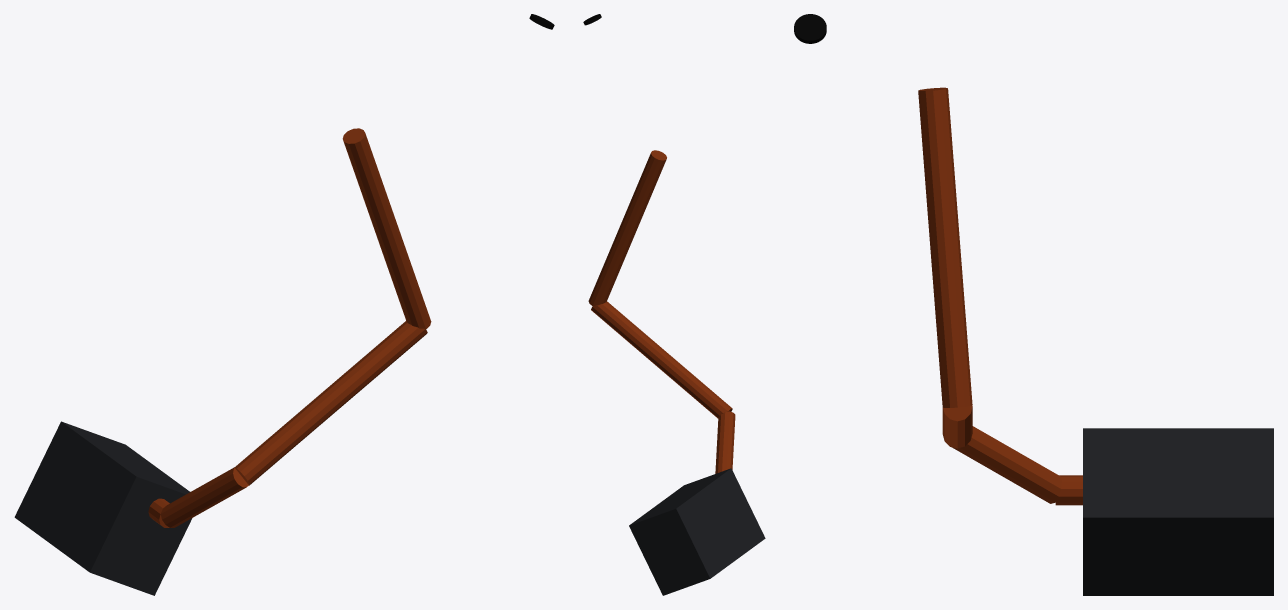
The model's file is earthing_loose.obj.
3 views of the same model, side by side, from view 1: azimuth 30°, elevation 25°; view 2: azimuth 150°, elevation 25°; view 3: azimuth 270°, elevation 25° (orthographic). The views are drawn at different scales.
Parts seen in each view (by area): view 1: earthing_loose; view 2: earthing_loose; view 3: earthing_loose.
Boxes of the visible parts, bbox=[...] form: earthing_loose: bbox=[14, 14, 554, 595]; earthing_loose: bbox=[583, 14, 765, 595]; earthing_loose: bbox=[794, 14, 1273, 595].
Size of the model in its own units: 0.38 by 0.6062 by 0.352.
